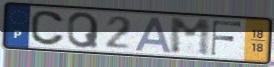2: (104, 15, 134, 51)
A: (134, 16, 175, 55)
C: (29, 9, 67, 47)
F: (209, 19, 244, 57)
M: (168, 17, 213, 58)
Q: (66, 11, 101, 50)
